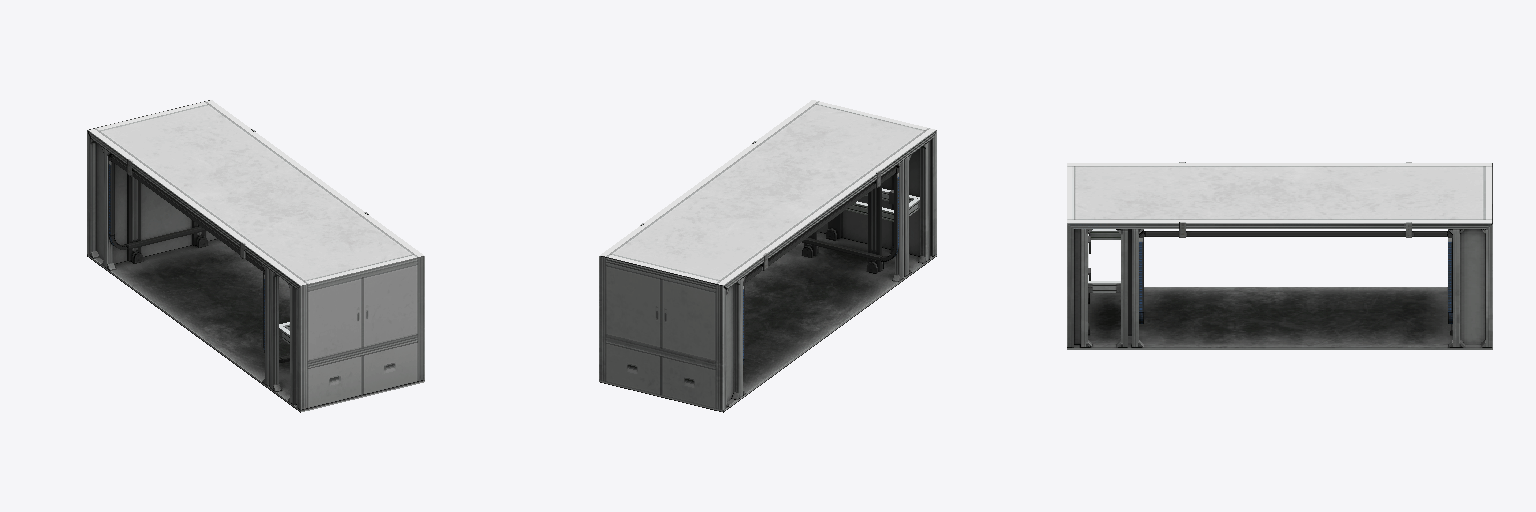
3 renders of one model, left to right at view 1: azimuth 30°, elevation 25°; view 2: azimuth 150°, elevation 25°; view 3: azimuth 270°, elevation 25°, orthographic.
Parts seen in each view (by area): view 1: AVG01:polySurface1; view 2: AVG01:polySurface1; view 3: AVG01:polySurface1.
Boxes of the visible parts, <box> form: AVG01:polySurface1: <box>87,100,424,412</box>; AVG01:polySurface1: <box>599,100,936,412</box>; AVG01:polySurface1: <box>1067,162,1492,349</box>.
Size of the model in its own units: 6.78 by 6.6 by 20.07.
2 materials, 2 textured.